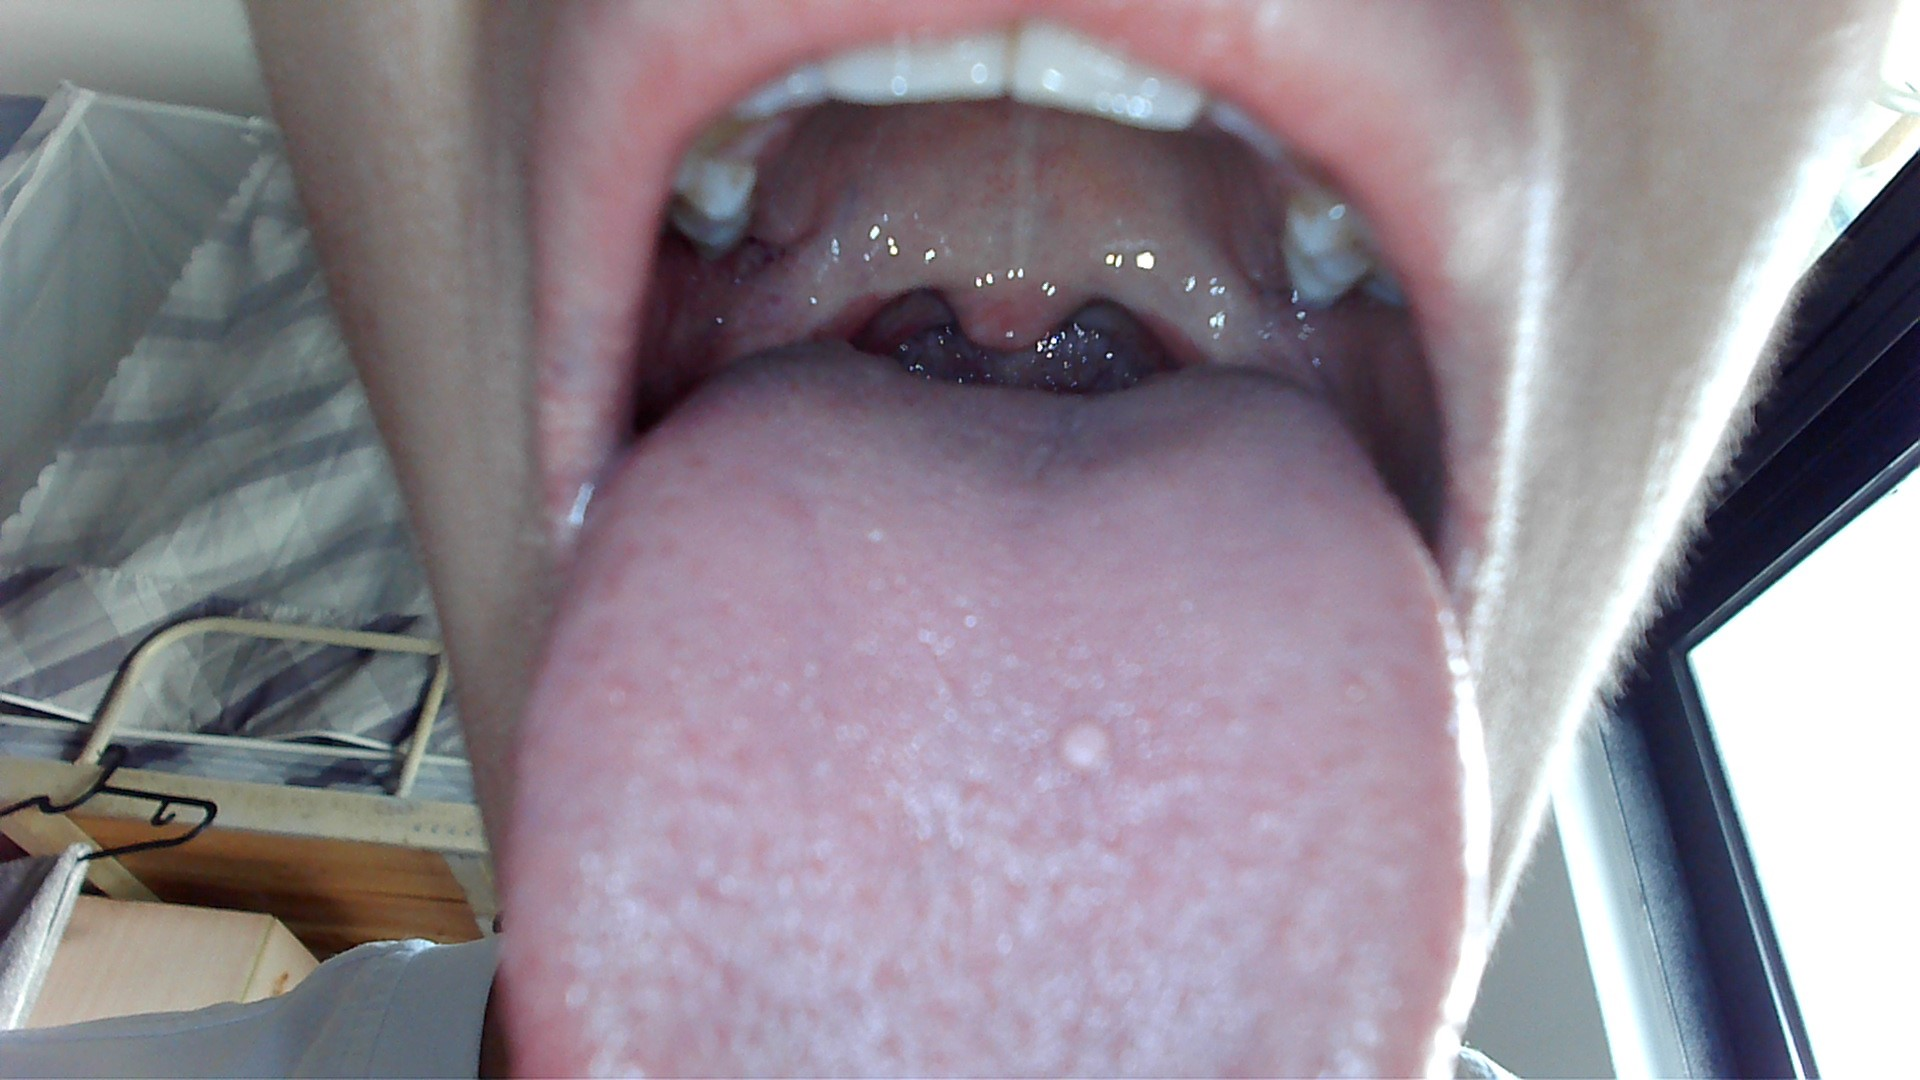throat: (1134, 287, 1258, 368), (770, 276, 890, 344)
